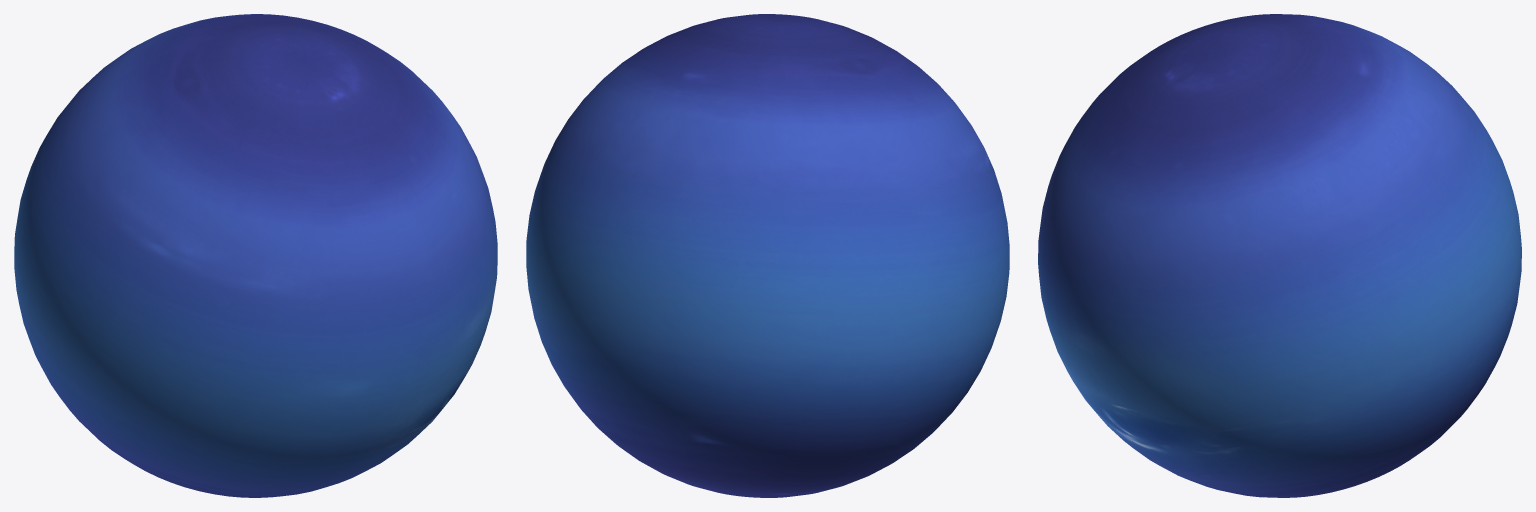
Rendered from neptune.glb.
3 renders of one model, left to right at view 1: azimuth 30°, elevation 25°; view 2: azimuth 150°, elevation 25°; view 3: azimuth 270°, elevation 25°, orthographic.
Parts seen in each view (by area): view 1: neptune; view 2: neptune; view 3: neptune.
Boxes of the visible parts, x1=… form: neptune: x1=14, y1=14, x2=497, y2=497; neptune: x1=526, y1=14, x2=1009, y2=497; neptune: x1=1038, y1=14, x2=1521, y2=497.
Size of the model in its own units: 0.0136 by 0.0136 by 0.0136.
Materials: 1 (1 with a texture image).
